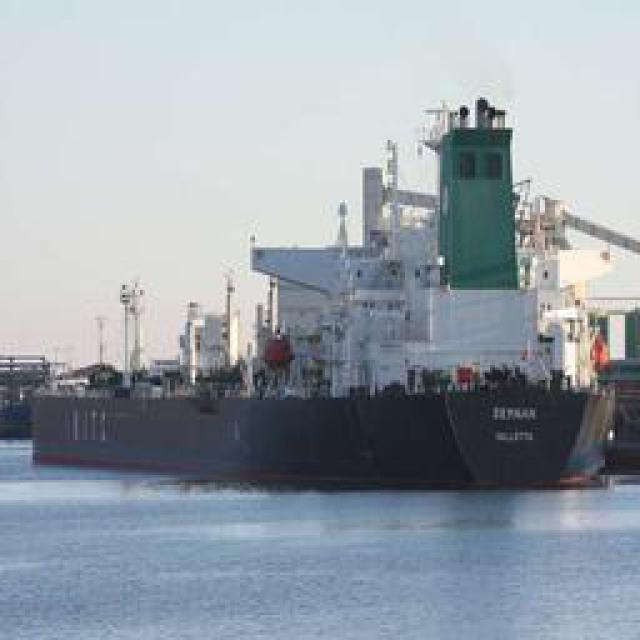Ship: (84, 81, 619, 491)
